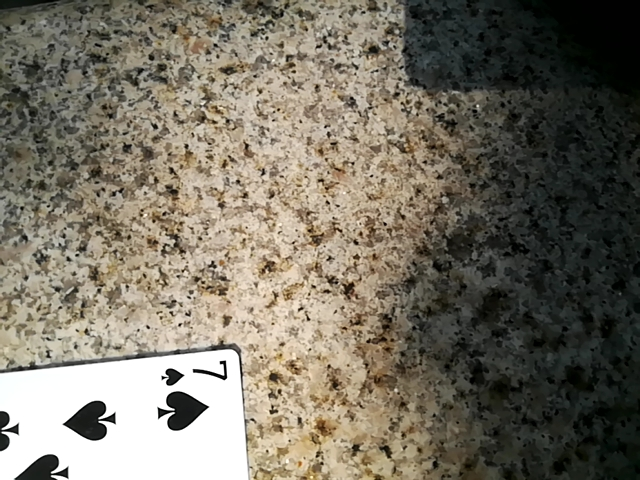ht 7: (4, 352, 256, 478)
